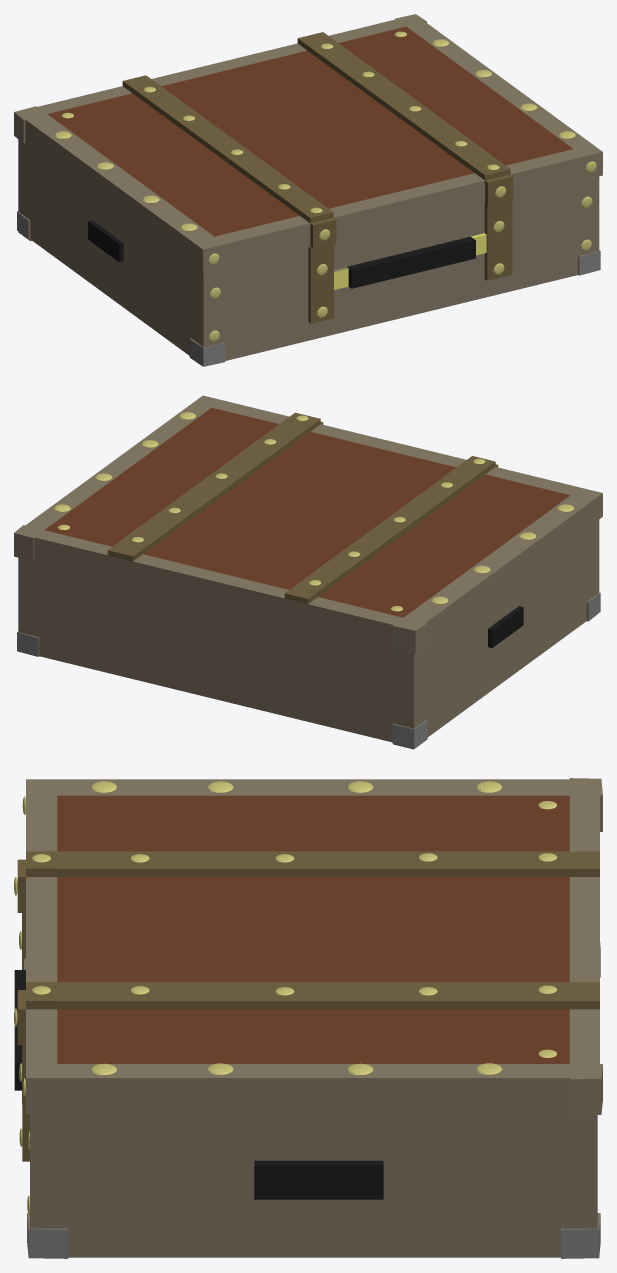
The model's file is luggage v2.fbx.
3 renders of one model, top to bottom at view 1: azimuth 30°, elevation 25°; view 2: azimuth 150°, elevation 25°; view 3: azimuth 270°, elevation 25°, orthographic. The views are drawn at different scales.
Visible parts, largest first — view 1: top_of_luggage, bottom_of_luggage; view 2: top_of_luggage, bottom_of_luggage; view 3: top_of_luggage, bottom_of_luggage.
Part boxes in pixels (<box>): top_of_luggage: <box>14,14,602,272</box>; bottom_of_luggage: <box>17,139,600,366</box>; top_of_luggage: <box>14,395,602,654</box>; bottom_of_luggage: <box>17,519,600,749</box>; top_of_luggage: <box>17,778,602,1115</box>; bottom_of_luggage: <box>14,913,600,1258</box>.
Size of the model in its own units: 2.32 by 0.694 by 1.9.
